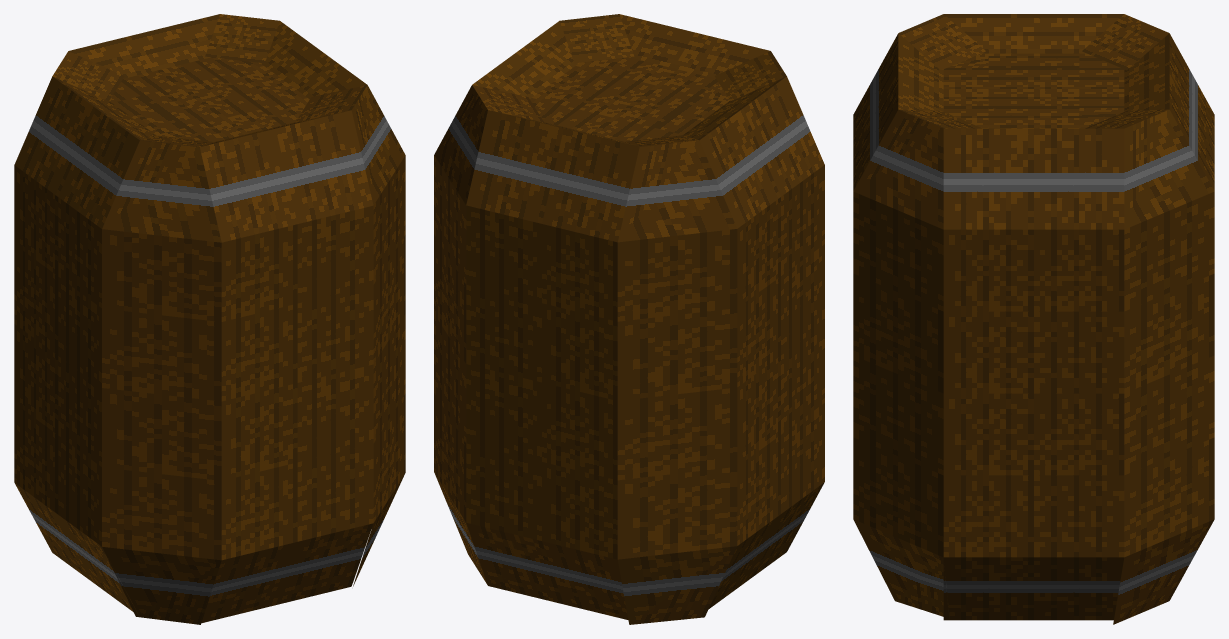
Rendered from Barrel.gltf.
The picture shows the model from 3 angles, left to right: view 1: azimuth 30°, elevation 25°; view 2: azimuth 150°, elevation 25°; view 3: azimuth 270°, elevation 25°; orthographic projection. The views are drawn at different scales.
Parts seen in each view (by area): view 1: default; view 2: default; view 3: default.
Boxes of the visible parts, x1,y1,x2,y2 form: default: (14, 14, 405, 624); default: (434, 14, 824, 624); default: (853, 14, 1214, 624).
Size of the model in its own units: 4 by 6.02 by 4.
Materials: 1 (1 with a texture image).
